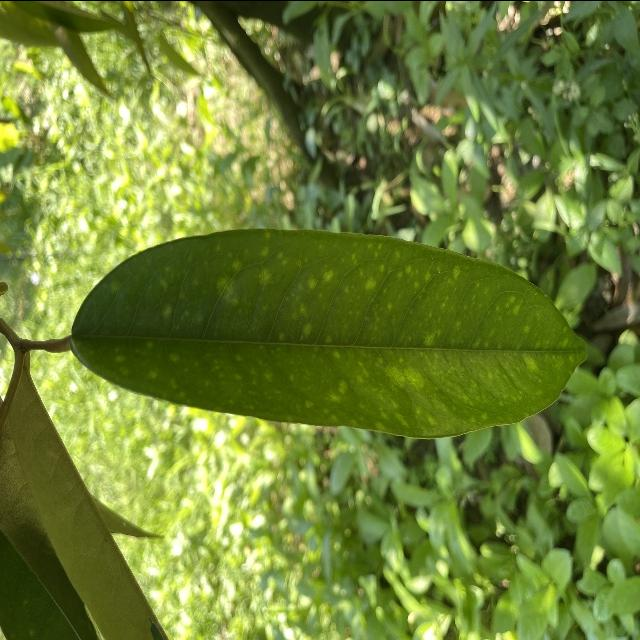Leaf Spot: (63, 221, 612, 445)
